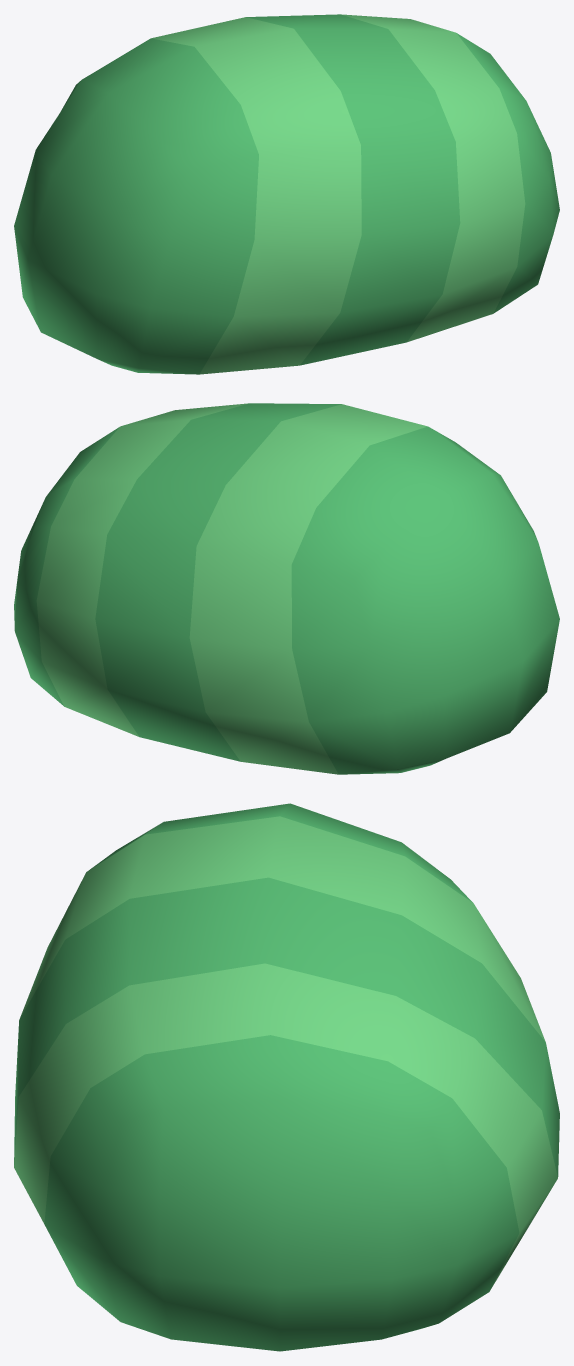
File: Bush_E_02_LOD2.gltf
The picture shows the model from 3 angles, top to bottom: view 1: azimuth 30°, elevation 25°; view 2: azimuth 150°, elevation 25°; view 3: azimuth 270°, elevation 25°; orthographic projection. The views are drawn at different scales.
Parts seen in each view (by area): view 1: Bush_E_02_LOD2_Cube.653; view 2: Bush_E_02_LOD2_Cube.653; view 3: Bush_E_02_LOD2_Cube.653.
Boxes of the visible parts, x1,y1,x2,y2 form: Bush_E_02_LOD2_Cube.653: (14,14,559,374); Bush_E_02_LOD2_Cube.653: (14,403,559,774); Bush_E_02_LOD2_Cube.653: (14,803,559,1351).
Size of the model in its own units: 6.59 by 3.52 by 4.91.
Materials: 1 (1 with a texture image).
